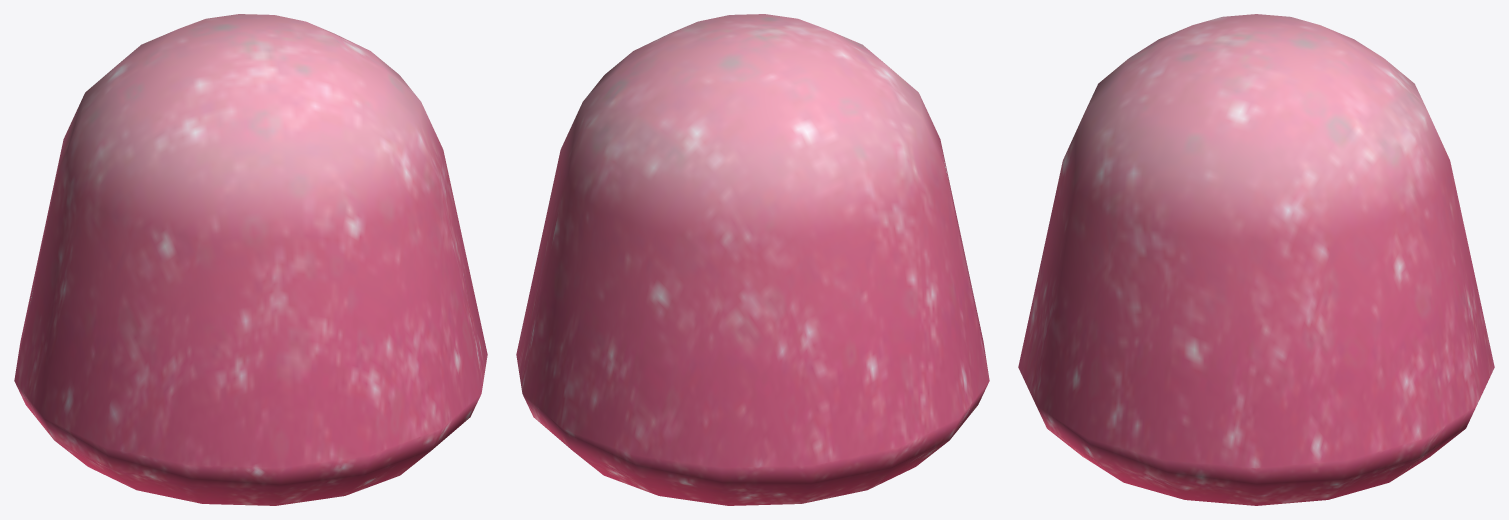
File: scp1079BonBon.fbx
3 renders of one model, left to right at view 1: azimuth 30°, elevation 25°; view 2: azimuth 150°, elevation 25°; view 3: azimuth 270°, elevation 25°, orthographic.
Parts seen in each view (by area): view 1: scp1079BonBon; view 2: scp1079BonBon; view 3: scp1079BonBon.
Part boxes in pixels (<box>): scp1079BonBon: <box>14,14,487,505</box>; scp1079BonBon: <box>516,14,989,505</box>; scp1079BonBon: <box>1018,14,1494,505</box>.
Bounding box in the file's own units: 0.06 × 0.0553 × 0.06.
1 material, 1 textured.
